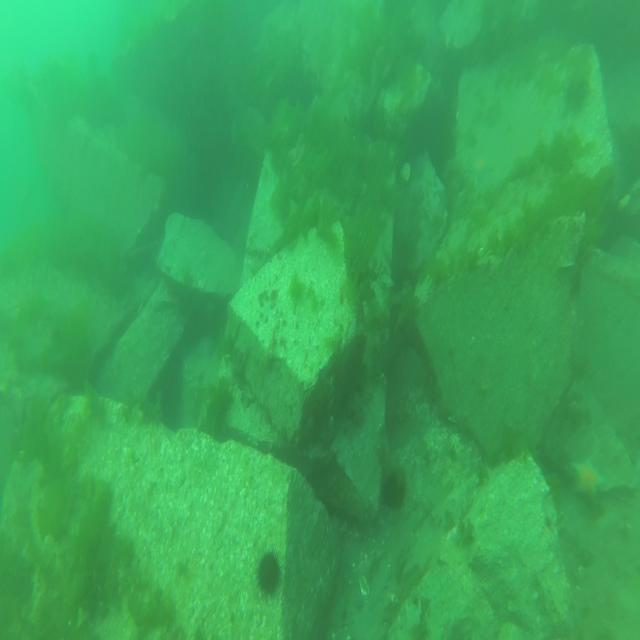echinus: (255, 548, 282, 602), (564, 69, 591, 115), (599, 201, 624, 247), (381, 470, 408, 512)
starfish: (570, 455, 608, 507), (467, 151, 494, 186), (544, 470, 564, 502), (197, 336, 220, 359), (434, 171, 448, 208)
